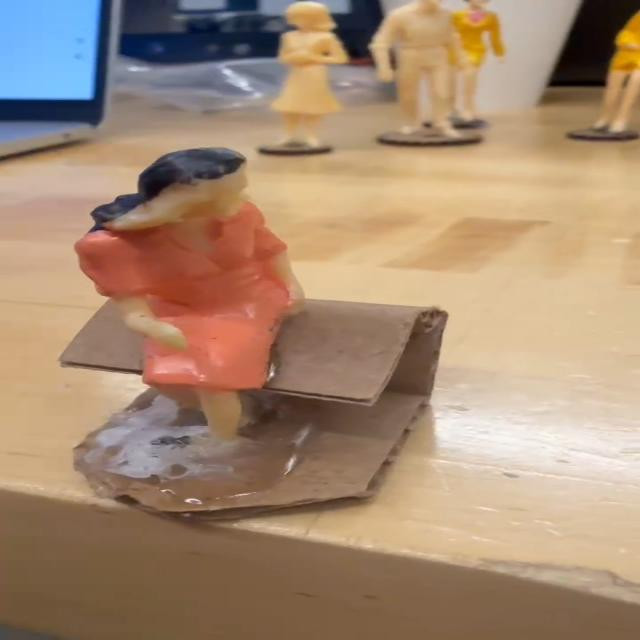Authorized: (28, 133, 376, 504)
